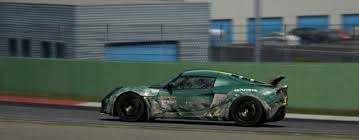Dent: (152, 89, 229, 116)
Scratch: (118, 86, 152, 93)
